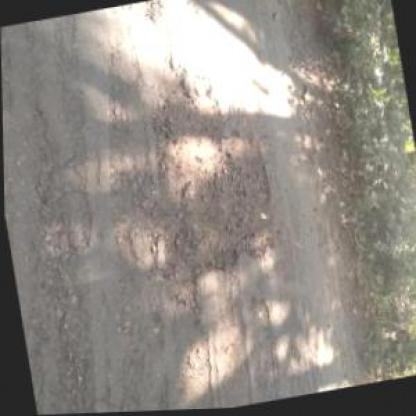pothole: (122, 56, 284, 296)
